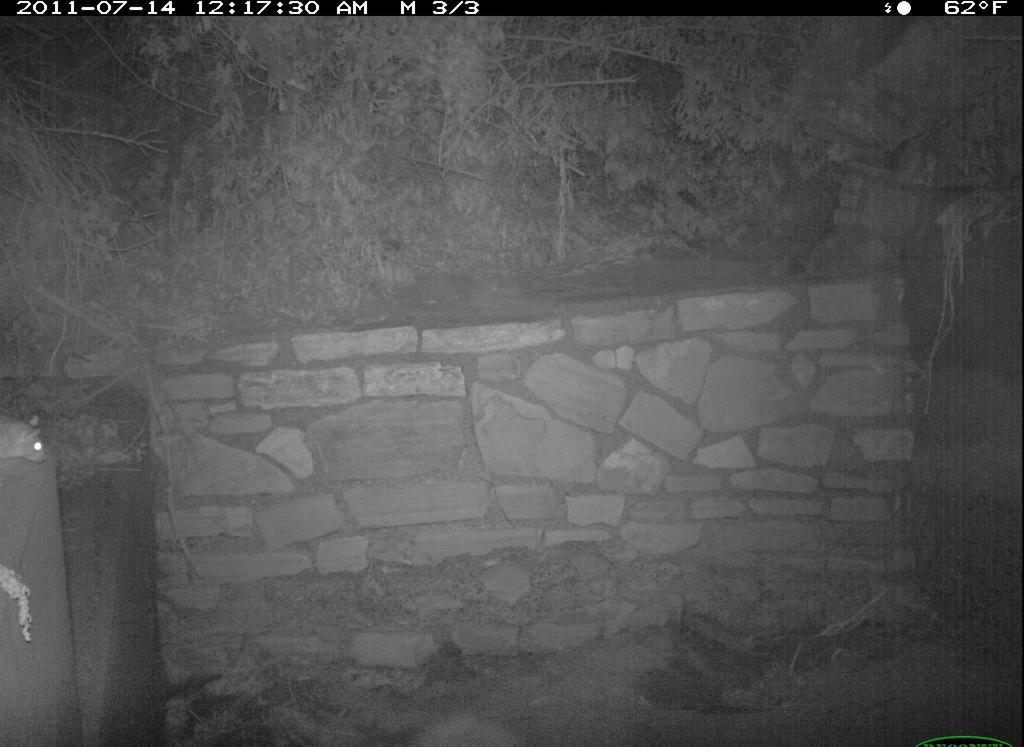rodent: (4, 409, 61, 463)
